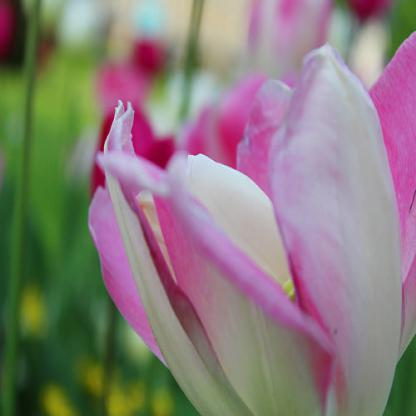TULIP: (88, 41, 406, 404)
